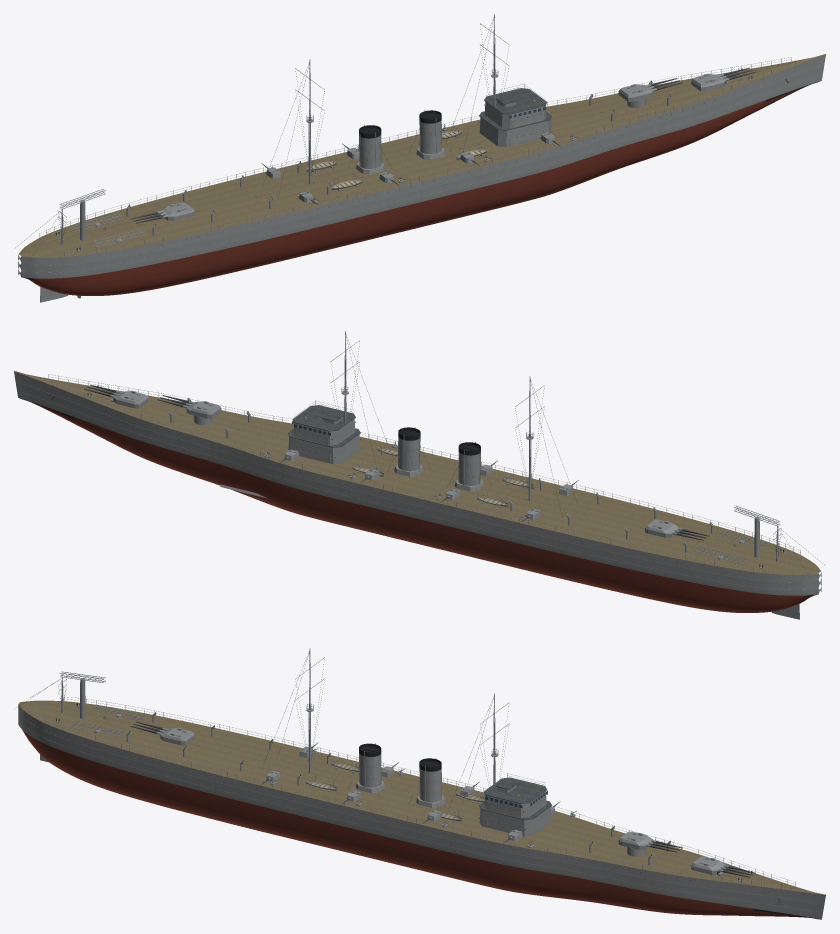
File: astoria_ca26.glb
3 renders of one model, top to bottom at view 1: azimuth 30°, elevation 25°; view 2: azimuth 150°, elevation 25°; view 3: azimuth 330°, elevation 25°, orthographic.
Visible parts, largest first — view 1: Astoria class; view 2: Astoria class; view 3: Astoria class.
Part boxes in pixels (bbox=[...]): Astoria class: bbox=[15, 14, 825, 302]; Astoria class: bbox=[14, 331, 824, 619]; Astoria class: bbox=[17, 648, 825, 919].
Size of the model in its own units: 179 by 38.24 by 21.88.
Materials: 9 (8 with a texture image).
